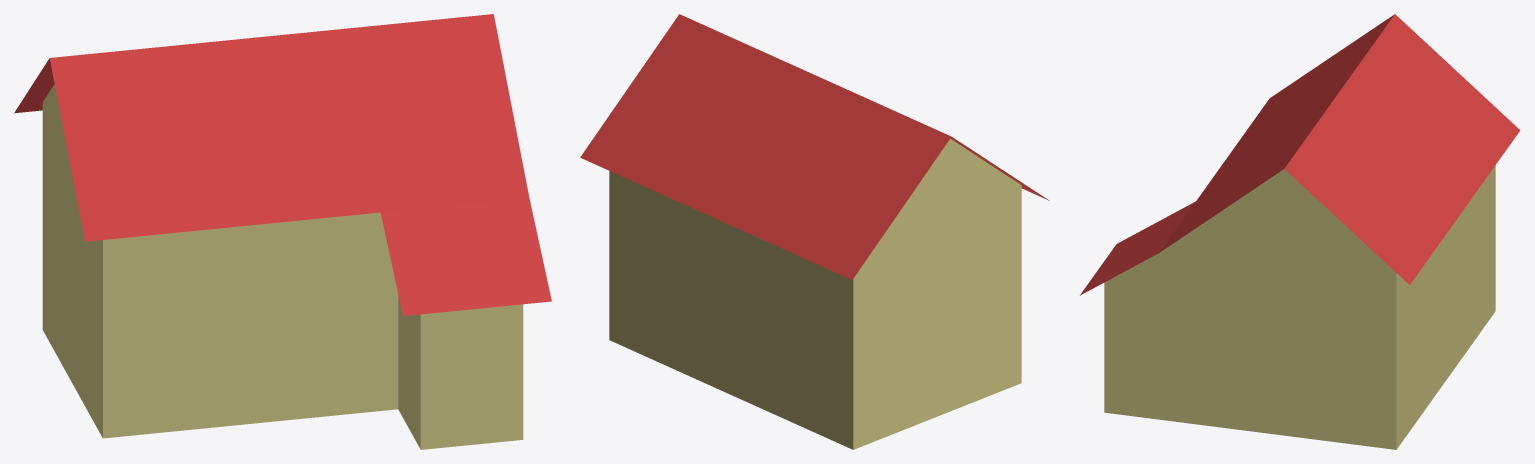
3 renders of one model, left to right at view 1: azimuth 30°, elevation 25°; view 2: azimuth 150°, elevation 25°; view 3: azimuth 270°, elevation 25°, orthographic. The views are drawn at different scales.
Visible parts, largest first — view 1: group_5, group_3, group_9, group_4, group_7, group_8; view 2: group_5, group_3, group_4; view 3: group_5, group_3, group_9, group_4, group_7, group_8.
Part boxes in pixels (box(x1,y1,x2,y2)): group_5: box(42, 84, 403, 438); group_3: box(73, 14, 529, 241); group_9: box(403, 304, 523, 449); group_4: box(14, 55, 403, 241); group_7: box(380, 198, 551, 315); group_8: box(391, 198, 551, 315); group_5: box(609, 138, 1021, 449); group_3: box(580, 15, 1049, 279); group_4: box(653, 14, 693, 77); group_5: box(1164, 165, 1495, 449); group_3: box(1159, 14, 1520, 284); group_9: box(1104, 249, 1164, 420); group_4: box(1191, 14, 1394, 208); group_7: box(1104, 201, 1195, 277); group_8: box(1080, 211, 1186, 295).
Size of the model in its own units: 16.66 by 16.62 by 11.46.
